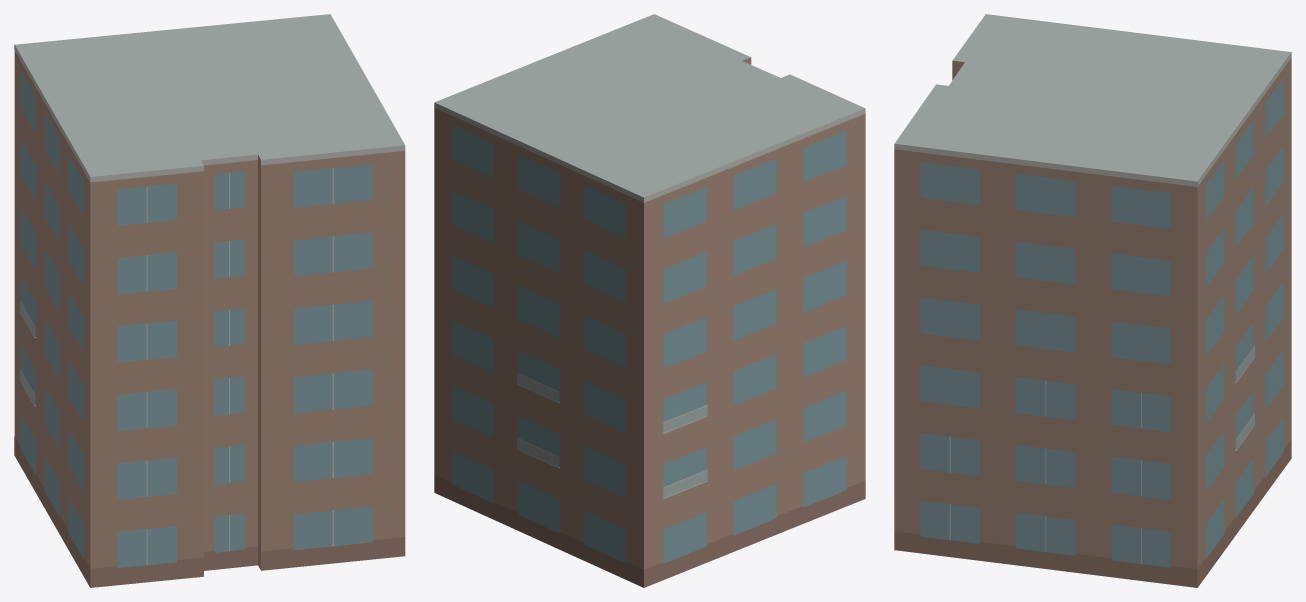
The model's file is survey-upis-32872753.glb.
The picture shows the model from 3 angles, left to right: view 1: azimuth 30°, elevation 25°; view 2: azimuth 150°, elevation 25°; view 3: azimuth 270°, elevation 25°; orthographic projection. The views are drawn at different scales.
Parts seen in each view (by area): view 1: survey-upis-32872753.tmp; view 2: survey-upis-32872753.tmp; view 3: survey-upis-32872753.tmp.
Part boxes in pixels (bbox=[...]): survey-upis-32872753.tmp: bbox=[14, 14, 405, 587]; survey-upis-32872753.tmp: bbox=[434, 14, 865, 587]; survey-upis-32872753.tmp: bbox=[894, 14, 1291, 587].
Bounding box in the file's own units: 16.19 × 18.3 × 16.22.
